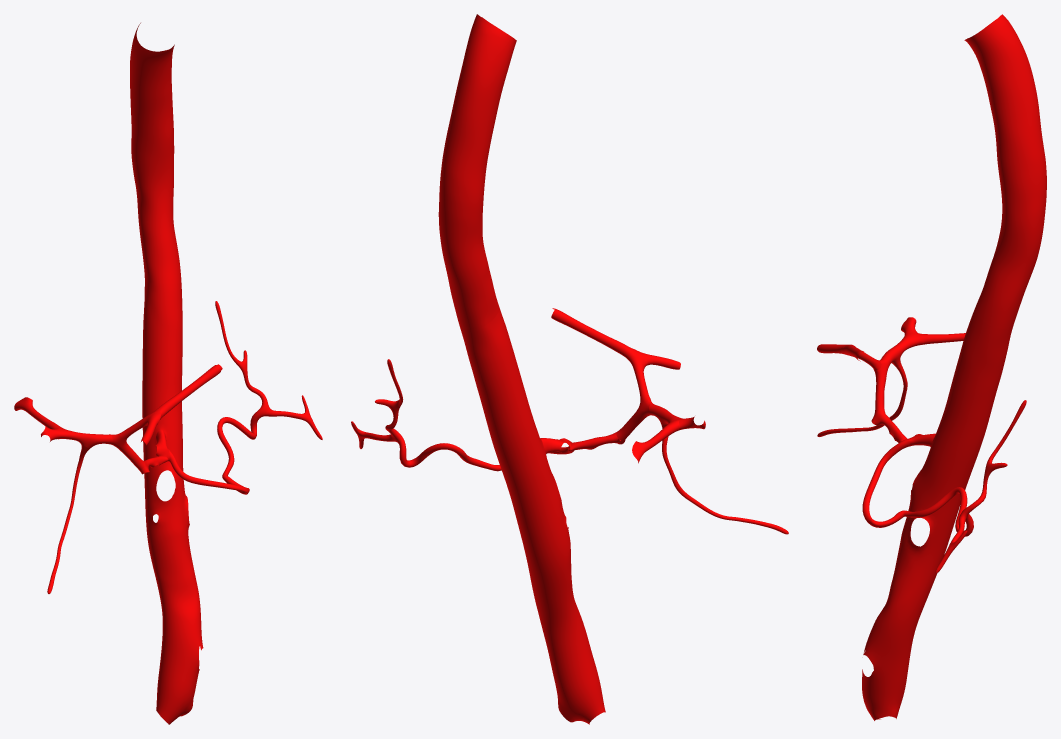
Rendered from hra-female-abdomen-arterial-01.glb.
The picture shows the model from 3 angles, left to right: view 1: azimuth 30°, elevation 25°; view 2: azimuth 150°, elevation 25°; view 3: azimuth 270°, elevation 25°; orthographic projection. The views are drawn at different scales.
Visible parts, largest first — view 1: VH_F_descending_aorta_b, VH_F_descending_aorta_a, VH_F_splenic_artery, VH_F_left_hepatic_artery, VH_F_cystic_artery, VH_F_right_hepatic_artery; view 2: VH_F_descending_aorta_b, VH_F_descending_aorta_a, VH_F_splenic_artery, VH_F_left_hepatic_artery, VH_F_cystic_artery; view 3: VH_F_descending_aorta_b, VH_F_descending_aorta_a, VH_F_splenic_artery, VH_F_cystic_artery, VH_F_right_hepatic_artery, VH_F_proper_hepatic_artery, VH_F_left_hepatic_artery, VH_F_common_hepatic_artery, VH_F_posterior_segmental_right_hepatic_artery.
Part boxes in pixels (x1=…): VH_F_descending_aorta_b: x1=142, y1=282, x2=203, y2=724; VH_F_descending_aorta_a: x1=130, y1=23, x2=181, y2=283; VH_F_splenic_artery: x1=169, y1=301, x2=322, y2=494; VH_F_left_hepatic_artery: x1=118, y1=364, x2=222, y2=438; VH_F_cystic_artery: x1=47, y1=446, x2=89, y2=593; VH_F_right_hepatic_artery: x1=58, y1=427, x2=112, y2=448; VH_F_descending_aorta_b: x1=459, y1=308, x2=605, y2=724; VH_F_descending_aorta_a: x1=438, y1=14, x2=516, y2=329; VH_F_splenic_artery: x1=351, y1=359, x2=574, y2=471; VH_F_left_hepatic_artery: x1=551, y1=308, x2=649, y2=402; VH_F_cystic_artery: x1=662, y1=436, x2=788, y2=534; VH_F_descending_aorta_b: x1=862, y1=307, x2=1013, y2=720; VH_F_descending_aorta_a: x1=964, y1=14, x2=1046, y2=328; VH_F_splenic_artery: x1=862, y1=400, x2=1026, y2=573; VH_F_cystic_artery: x1=817, y1=363, x2=907, y2=436; VH_F_right_hepatic_artery: x1=880, y1=332, x2=923, y2=366; VH_F_proper_hepatic_artery: x1=873, y1=359, x2=889, y2=414; VH_F_left_hepatic_artery: x1=839, y1=344, x2=881, y2=369; VH_F_common_hepatic_artery: x1=871, y1=412, x2=907, y2=442; VH_F_posterior_segmental_right_hepatic_artery: x1=915, y1=332, x2=965, y2=344.
Size of the model in its own units: 0.1886 by 0.3622 by 0.1039.
